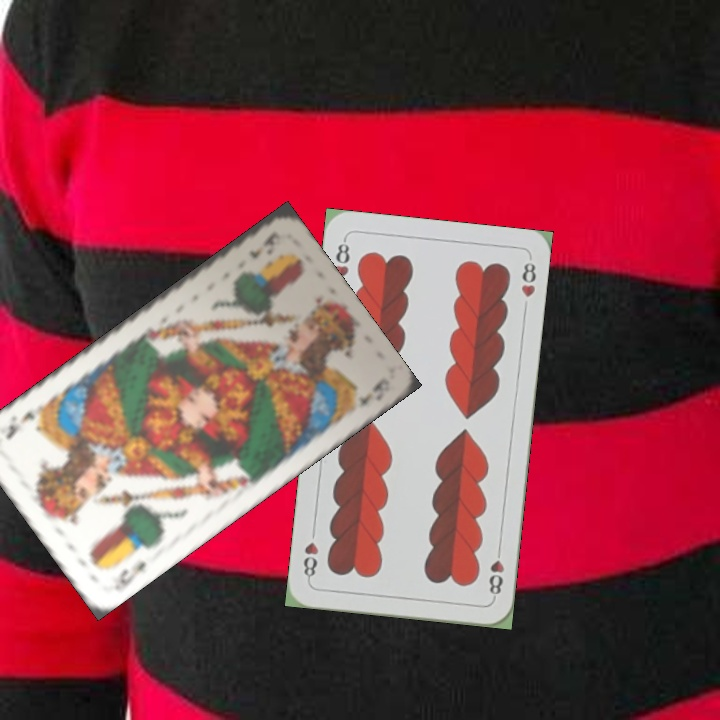EK: (107, 556, 149, 594), (245, 227, 284, 262)
H8: (485, 542, 507, 601), (330, 235, 352, 281)
